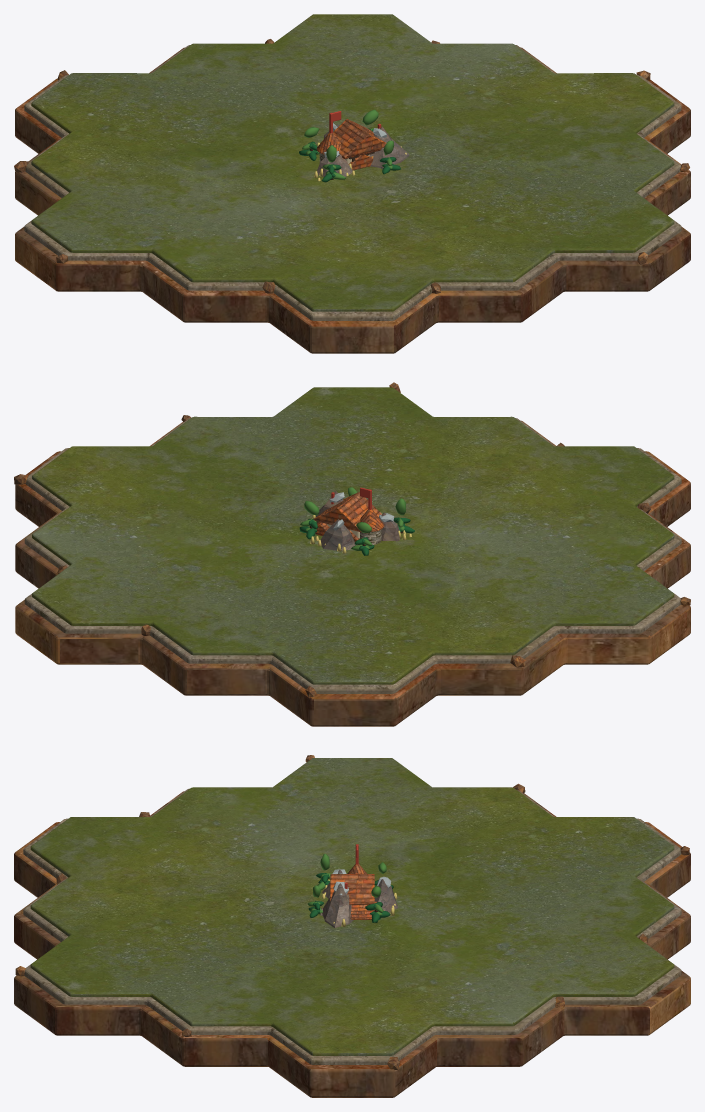
Rendered from katan-kit.glb.
3 views of the same model, one above another, from view 1: azimuth 30°, elevation 25°; view 2: azimuth 150°, elevation 25°; view 3: azimuth 270°, elevation 25° (orthographic).
Parts seen in each view (by area): view 1: BoardFrameTurf, BoardFrameCliff, BoardFrameBeach, CityRoof, TerrainForestDetails, TerrainMountainsRocks, BoardFrameRocks; view 2: BoardFrameTurf, BoardFrameCliff, BoardFrameBeach, CityRoof, TerrainForestDetails, TerrainMountainsRocks, BoardFrameRocks; view 3: BoardFrameTurf, BoardFrameCliff, BoardFrameBeach, CityRoof, TerrainMountainsRocks, TerrainForestDetails, BoardFrameRocks.
Part boxes in pixels (bbox=[...]): BoardFrameTurf: bbox=[31, 14, 674, 311]; BoardFrameCliff: bbox=[15, 47, 690, 353]; BoardFrameBeach: bbox=[24, 45, 681, 320]; CityRoof: bbox=[316, 119, 386, 158]; TerrainForestDetails: bbox=[299, 109, 400, 182]; TerrainMountainsRocks: bbox=[317, 124, 409, 176]; BoardFrameRocks: bbox=[14, 39, 689, 293]; BoardFrameTurf: bbox=[32, 387, 674, 684]; BoardFrameCliff: bbox=[15, 420, 690, 726]; BoardFrameBeach: bbox=[24, 418, 681, 693]; CityRoof: bbox=[313, 492, 384, 535]; TerrainForestDetails: bbox=[299, 487, 414, 555]; TerrainMountainsRocks: bbox=[315, 491, 399, 550]; BoardFrameRocks: bbox=[14, 382, 690, 697]; BoardFrameTurf: bbox=[30, 758, 674, 1055]; BoardFrameCliff: bbox=[14, 791, 690, 1097]; BoardFrameBeach: bbox=[23, 788, 681, 1064]; CityRoof: bbox=[330, 864, 376, 919]; TerrainMountainsRocks: bbox=[319, 870, 397, 927]; TerrainForestDetails: bbox=[307, 853, 393, 922]; BoardFrameRocks: bbox=[15, 755, 689, 1069].
Bounding box in the file's own units: 9.23 × 1.27 × 8.5.
Materials: 21 (14 with a texture image).
